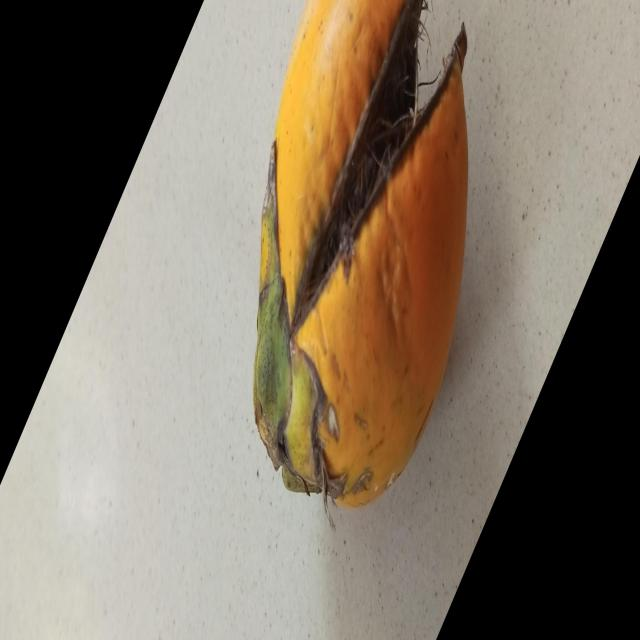damaged: (254, 0, 469, 511)
